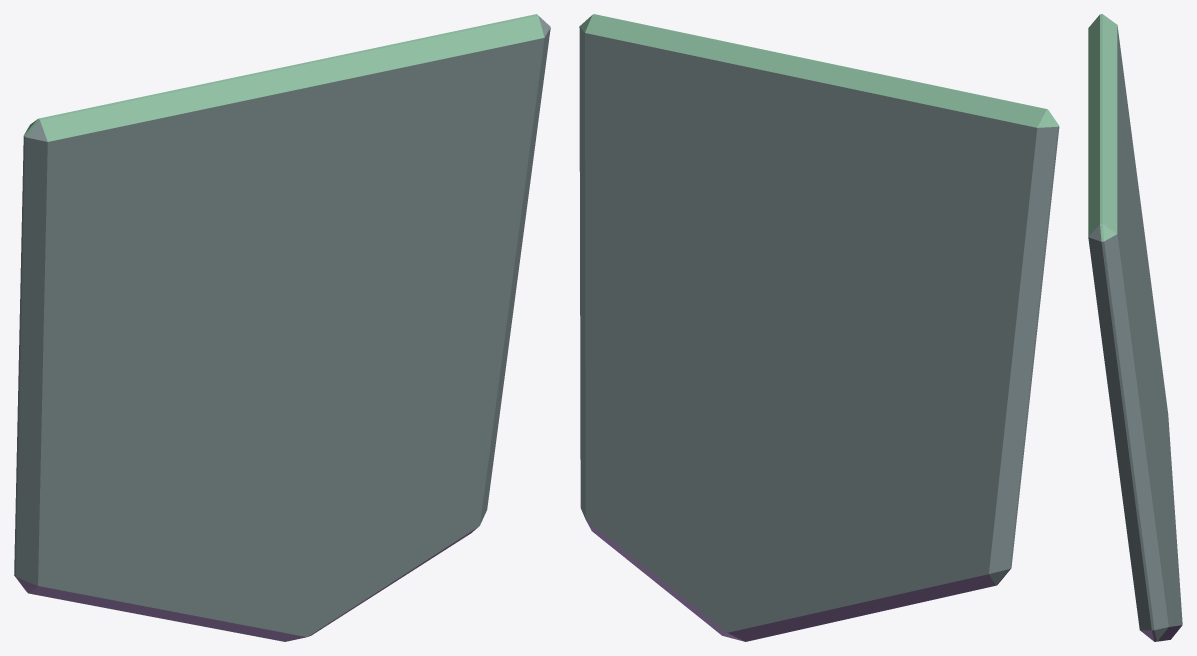
File: npc_module_mantle_v01.glb
3 renders of one model, left to right at view 1: azimuth 30°, elevation 25°; view 2: azimuth 150°, elevation 25°; view 3: azimuth 270°, elevation 25°, orthographic. The views are drawn at different scales.
Visible parts, largest first — view 1: GEO_npc_module_mantle_v01; view 2: GEO_npc_module_mantle_v01; view 3: GEO_npc_module_mantle_v01.
Boxes of the visible parts, box(x1,y1,x2,y2) form: GEO_npc_module_mantle_v01: box(14, 14, 550, 641); GEO_npc_module_mantle_v01: box(579, 14, 1059, 641); GEO_npc_module_mantle_v01: box(1088, 14, 1182, 641).
Size of the model in its own units: 0.9172 by 1.04 by 0.177.
